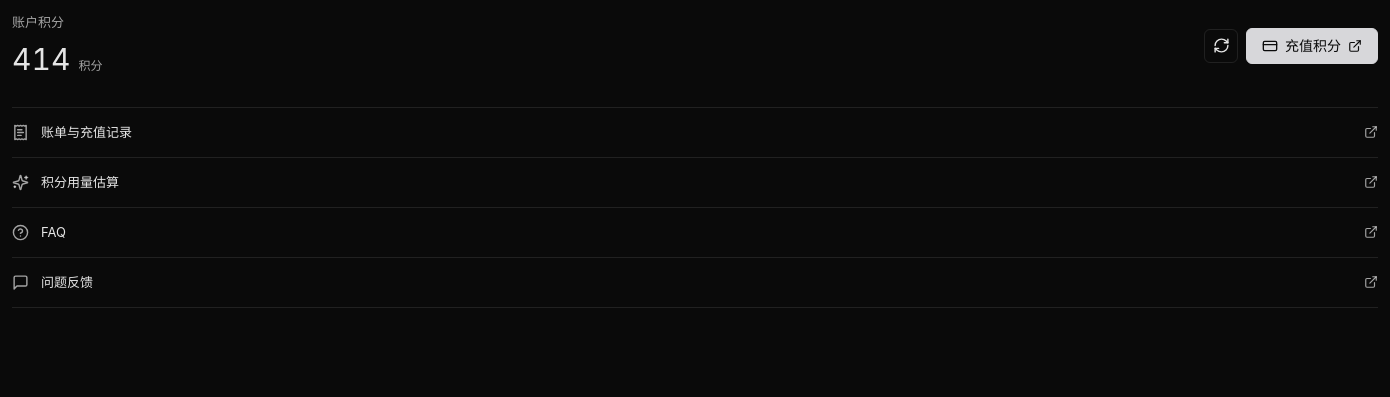
Test: finds a new website order on focus and distinguishes payment from credit completion
This screenshot has width=1390, height=397.
Expected: the text "414" is shown, [12, 41, 70, 77]
Click the button "充值积分" at {"x": 1312, "y": 46}, box [1246, 28, 1378, 64]
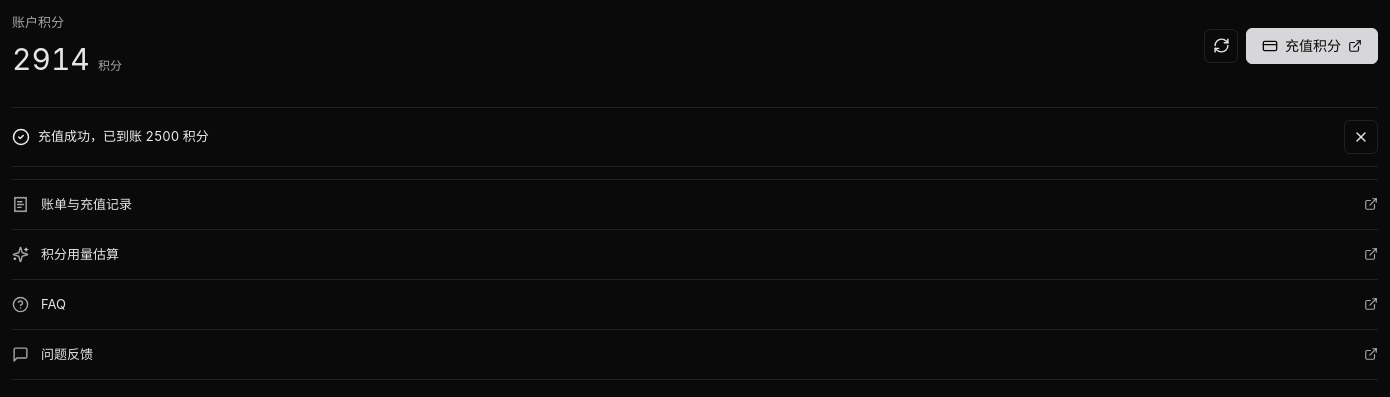
Result: the text "充值成功，已到账 2500 积分" is shown at [38, 127, 209, 146]
Result: the text "2914" is shown at [12, 41, 90, 77]
